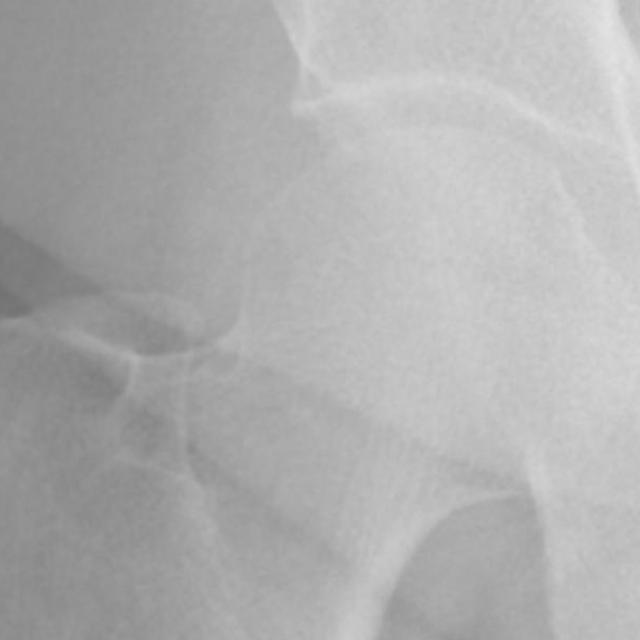Fitted_femural_head: (413, 126, 432, 413)
